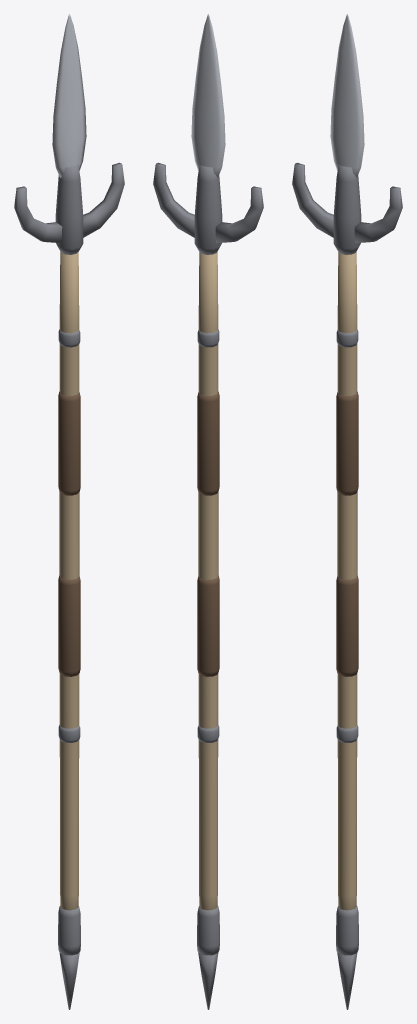
File: weapon_spear.glb
3 renders of one model, left to right at view 1: azimuth 30°, elevation 25°; view 2: azimuth 150°, elevation 25°; view 3: azimuth 330°, elevation 25°, orthographic.
Visible parts, largest first — view 1: M_Weapon; view 2: M_Weapon; view 3: M_Weapon.
Part boxes in pixels (bbox=[...]): M_Weapon: bbox=[14, 14, 124, 1009]; M_Weapon: bbox=[153, 14, 263, 1009]; M_Weapon: bbox=[292, 14, 402, 1009].
Size of the model in its own units: 0.2226 by 1.95 by 0.0476.
